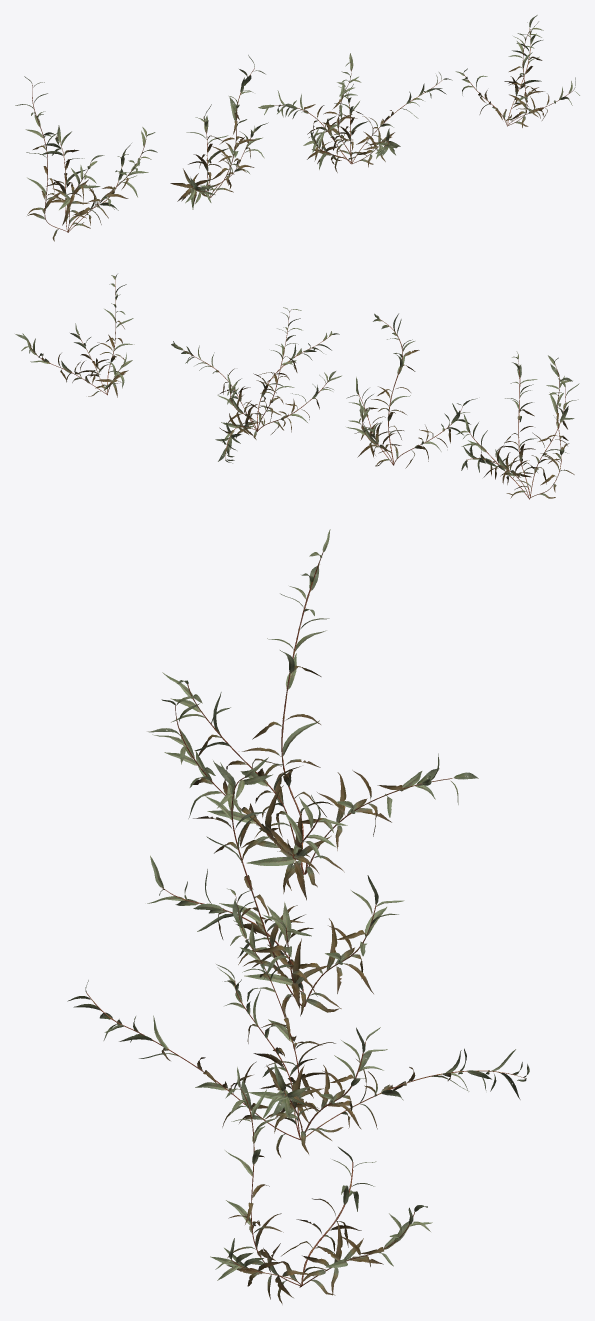
The model's file is shrub_02.gltf.
The picture shows the model from 3 angles, top to bottom: view 1: azimuth 30°, elevation 25°; view 2: azimuth 150°, elevation 25°; view 3: azimuth 270°, elevation 25°; orthographic projection. The views are drawn at different scales.
Visible parts, largest first — view 1: shrub_02_c, shrub_02_a, shrub_02_b, shrub_02_d; view 2: shrub_02_c, shrub_02_a, shrub_02_b, shrub_02_d; view 3: shrub_02_a, shrub_02_c, shrub_02_b, shrub_02_d.
Boxes of the visible parts, <box> form: shrub_02_c: <box>258,53,452,172</box>; shrub_02_a: <box>15,76,157,241</box>; shrub_02_b: <box>170,55,268,209</box>; shrub_02_d: <box>455,15,579,127</box>; shrub_02_c: <box>171,307,341,463</box>; shrub_02_a: <box>456,351,579,499</box>; shrub_02_b: <box>346,313,477,468</box>; shrub_02_d: <box>15,274,134,397</box>; shrub_02_a: <box>147,529,478,900</box>; shrub_02_c: <box>67,888,529,1157</box>; shrub_02_b: <box>147,757,404,1018</box>; shrub_02_d: <box>210,1067,432,1304</box>.
Bounding box in the file's own units: 6.05 × 1.7 × 2.29.
Materials: 1 (1 with a texture image).
